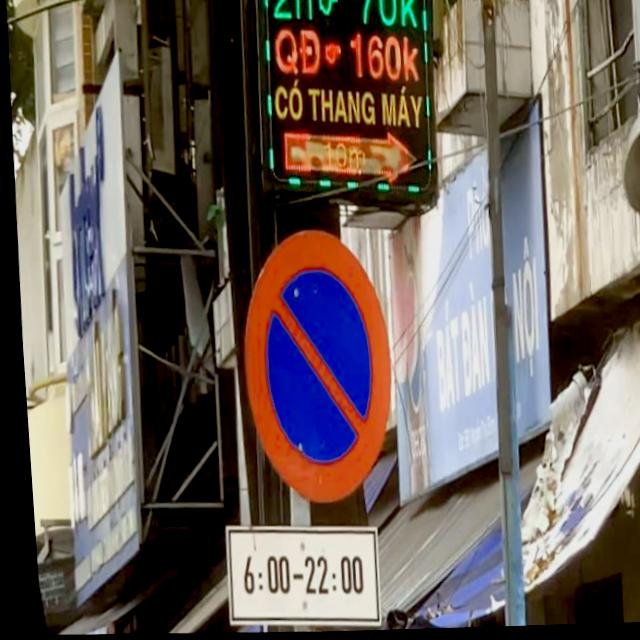Cam do xe: (228, 229, 391, 511)
